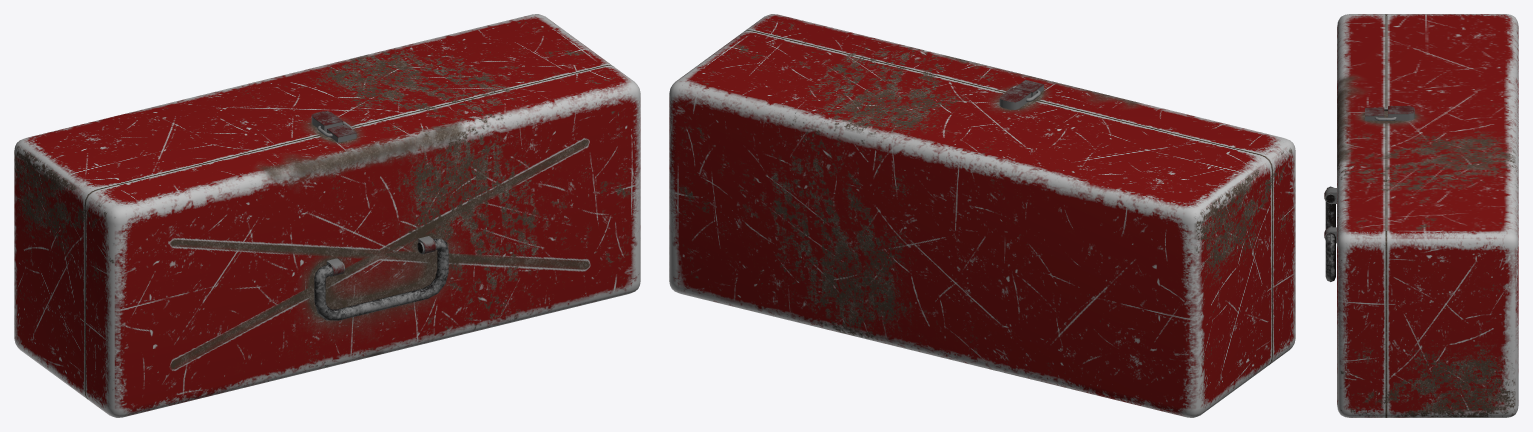
File: ToolBox.obj
The picture shows the model from 3 angles, left to right: view 1: azimuth 30°, elevation 25°; view 2: azimuth 150°, elevation 25°; view 3: azimuth 270°, elevation 25°; orthographic projection. The views are drawn at different scales.
Size of the model in its own units: 2.23 by 0.8893 by 0.8076.
1 material, 1 textured.
